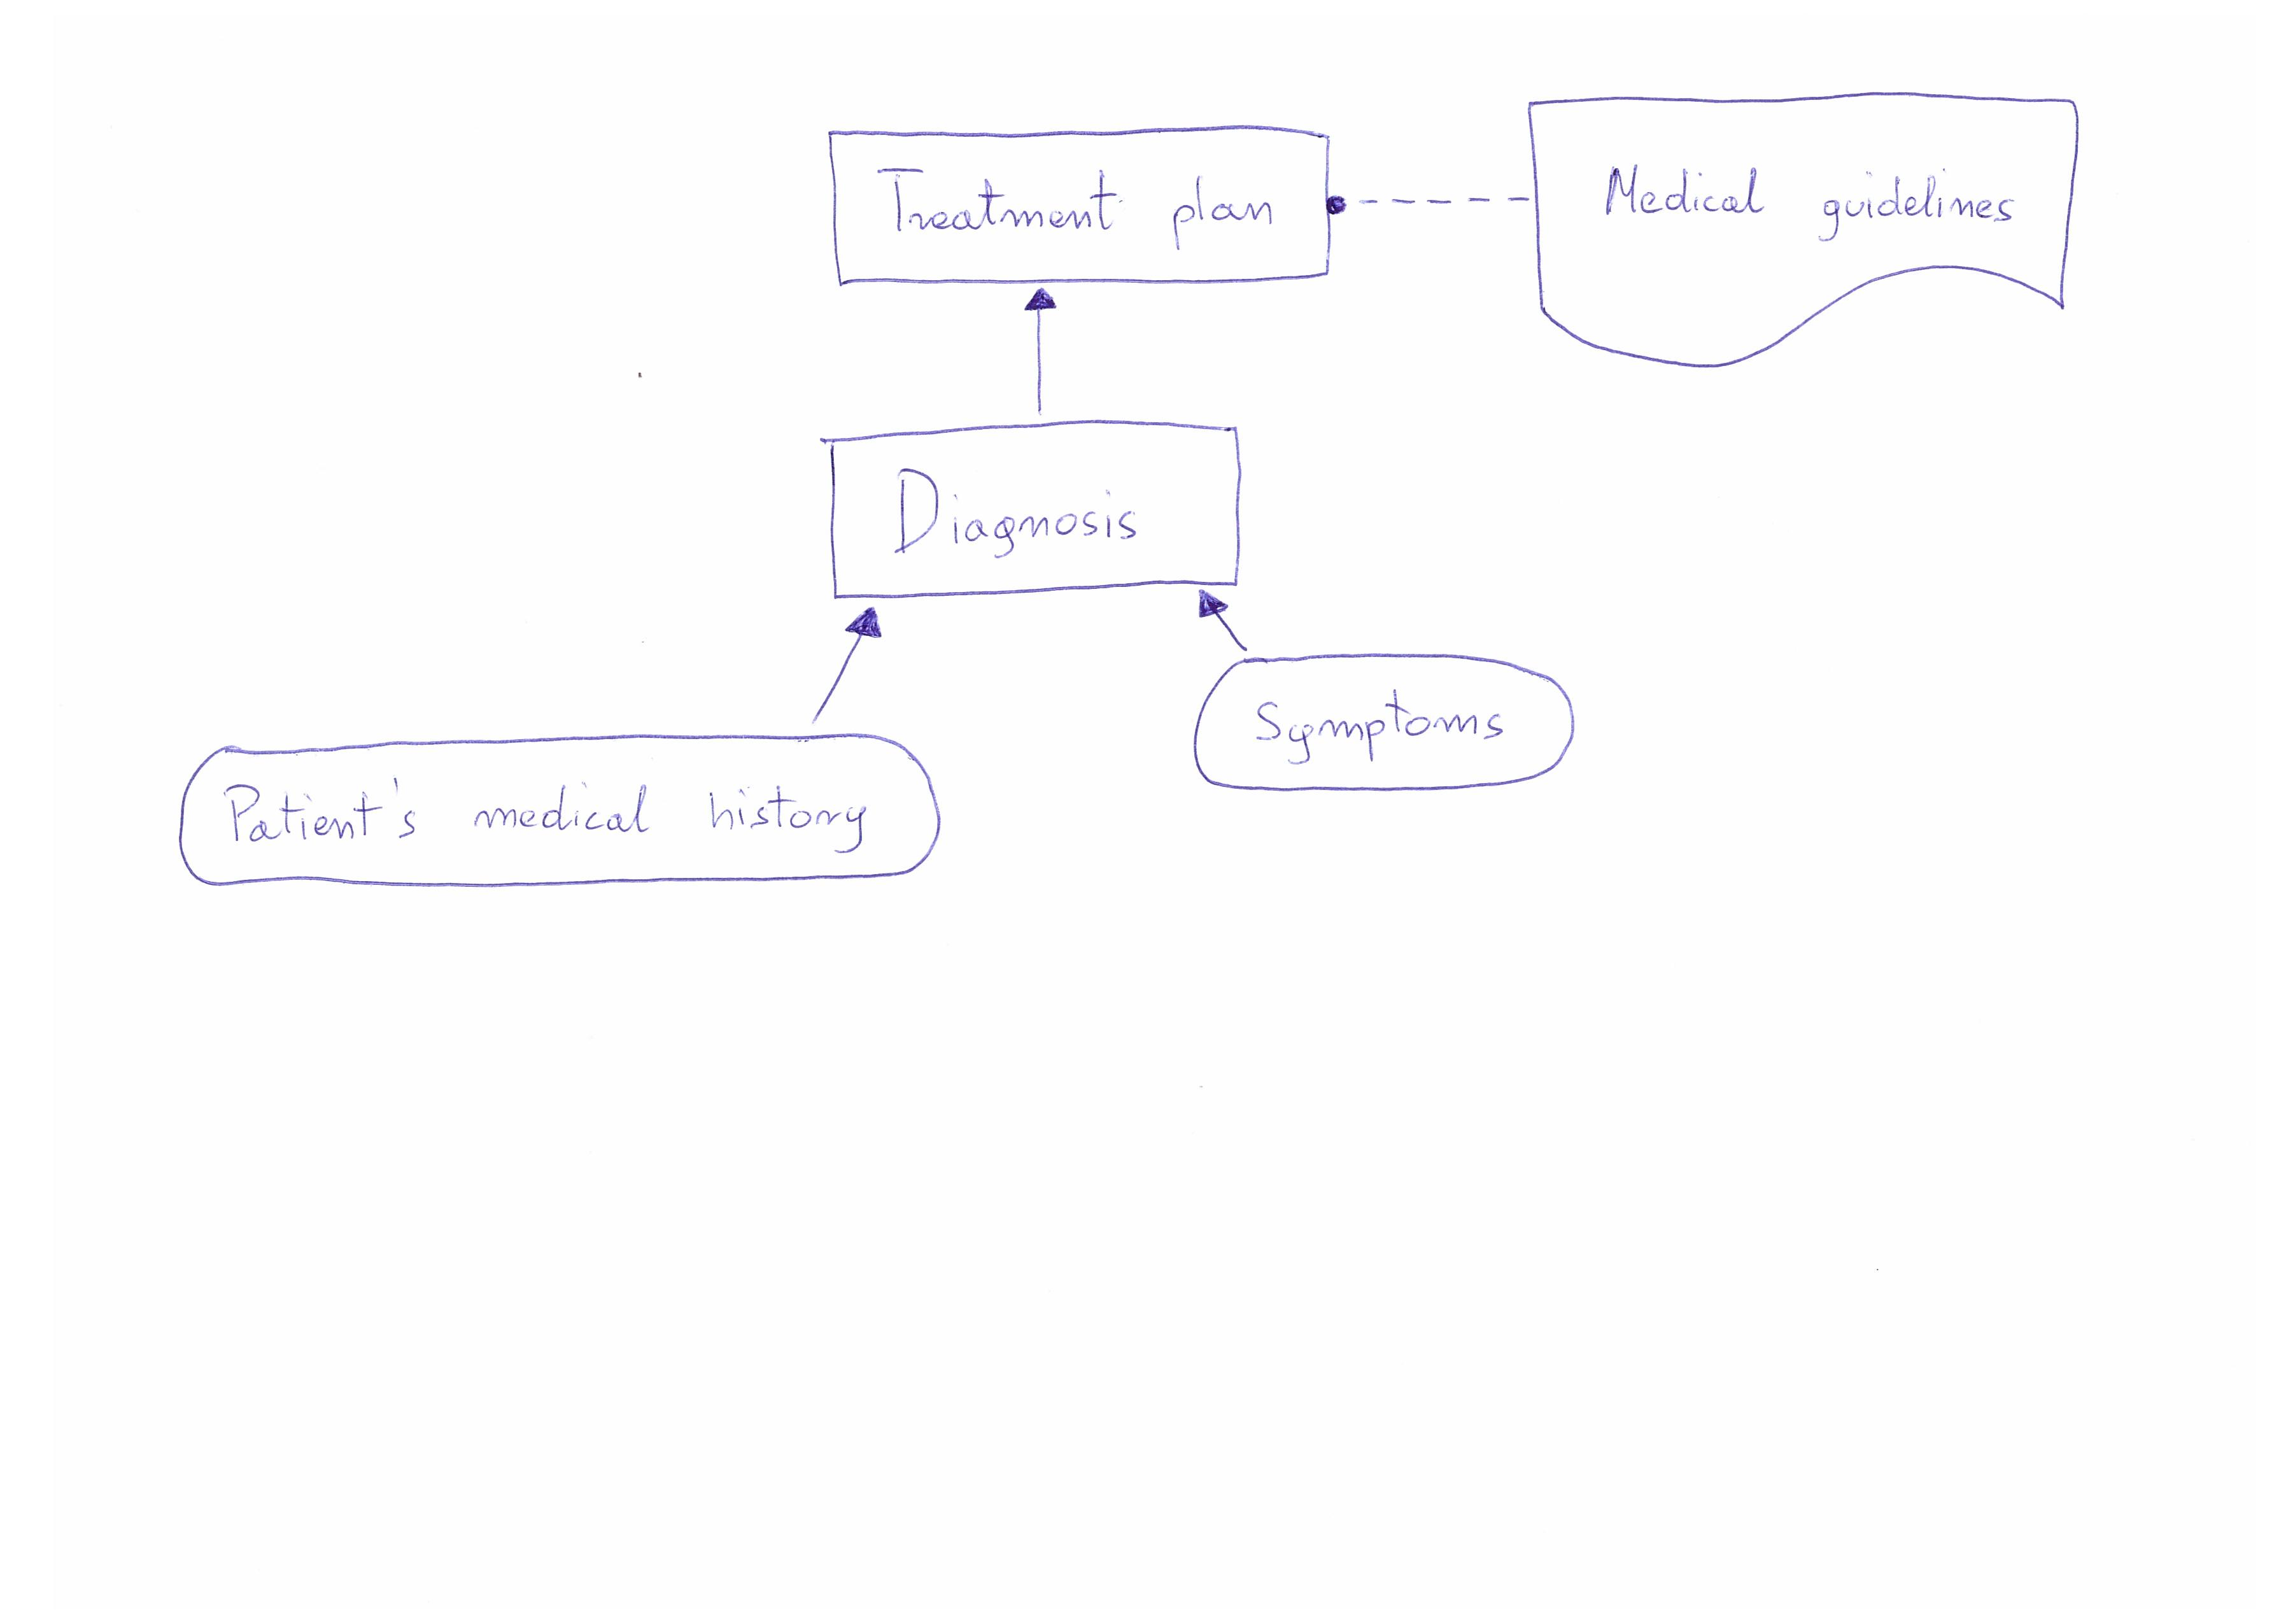arrow_authority_requirement: (1328, 181, 1532, 225)
arrow_information_requirement: (789, 601, 896, 729), (1010, 281, 1068, 413), (1183, 585, 1265, 654)
node_decision: (817, 116, 1332, 286), (794, 415, 1260, 598)
node_input_data: (162, 726, 947, 889), (1165, 650, 1595, 803)
node_knowledge_source: (1529, 93, 2107, 385)
text: (220, 773, 893, 863), (1588, 146, 2033, 248), (865, 155, 1292, 255), (877, 464, 1160, 564), (1239, 682, 1515, 770)
